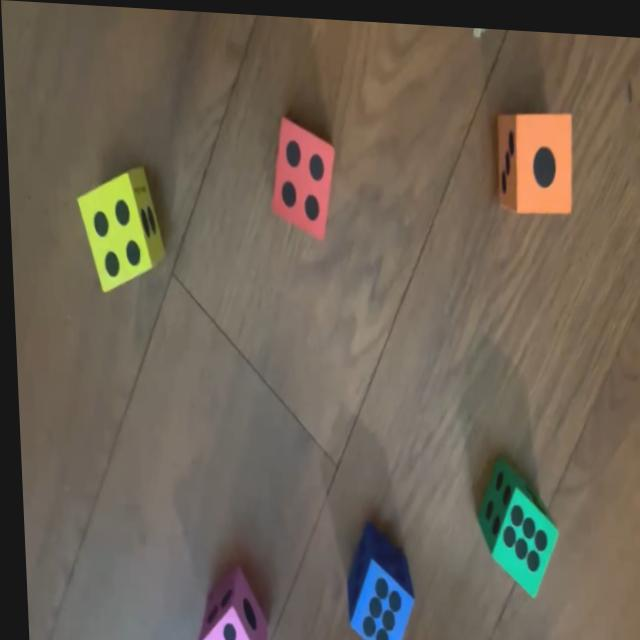cube: (469, 455, 556, 594), (266, 113, 337, 240), (339, 521, 410, 640)
